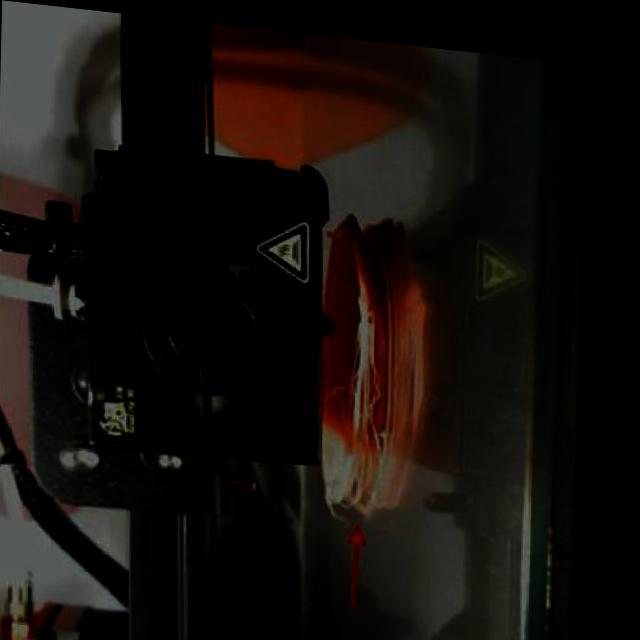spaghetti: (319, 284, 394, 515)
